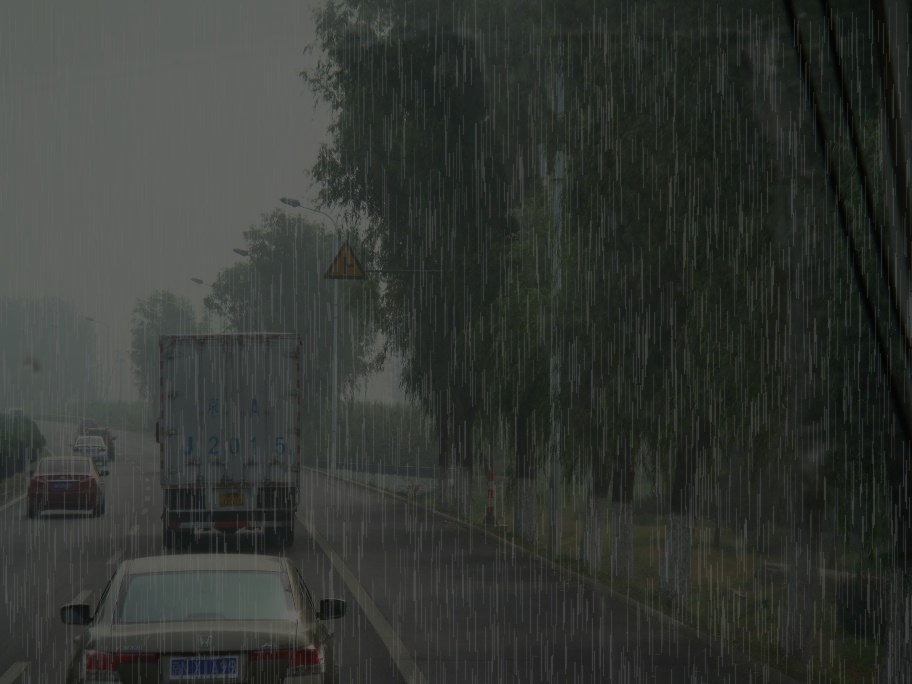Warning Signs: (323, 237, 371, 282)
